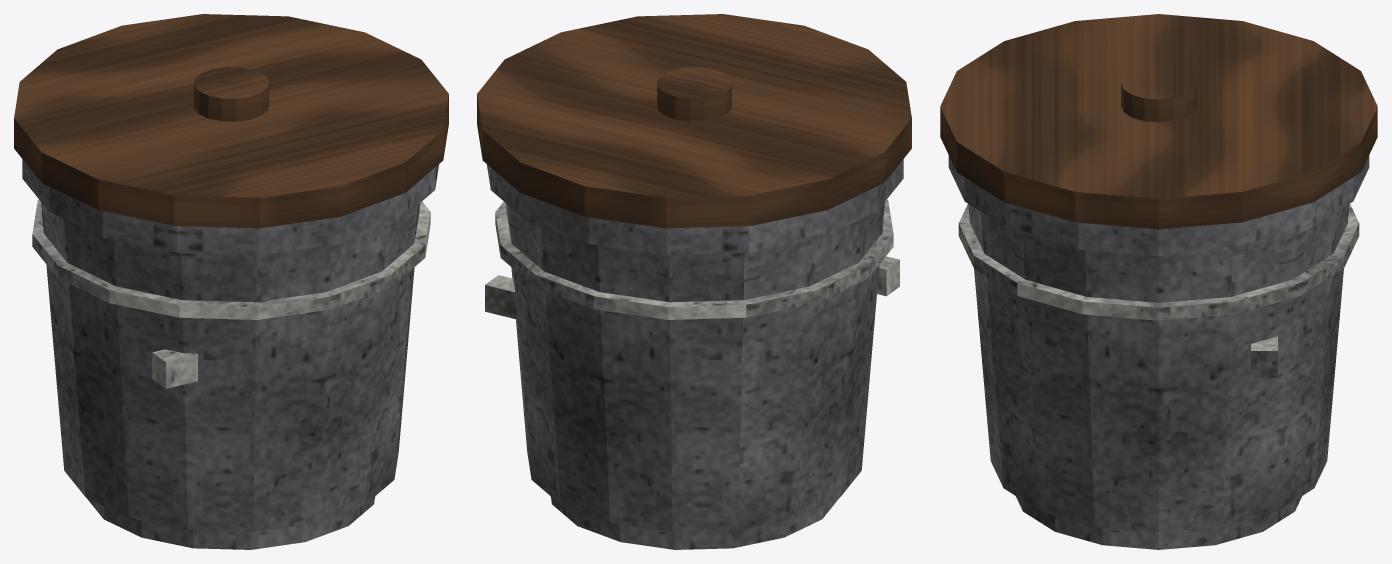
File: rice_jar.fbx
3 views of the same model, side by side, from view 1: azimuth 30°, elevation 25°; view 2: azimuth 150°, elevation 25°; view 3: azimuth 270°, elevation 25° (orthographic).
Visible parts, largest first — view 1: rice_jar; view 2: rice_jar; view 3: rice_jar.
Part boxes in pixels (x1,y1,x2,y2): rice_jar: (14, 14, 448, 549); rice_jar: (477, 14, 911, 549); rice_jar: (940, 14, 1377, 549).
Size of the model in its own units: 52 by 53 by 52.
